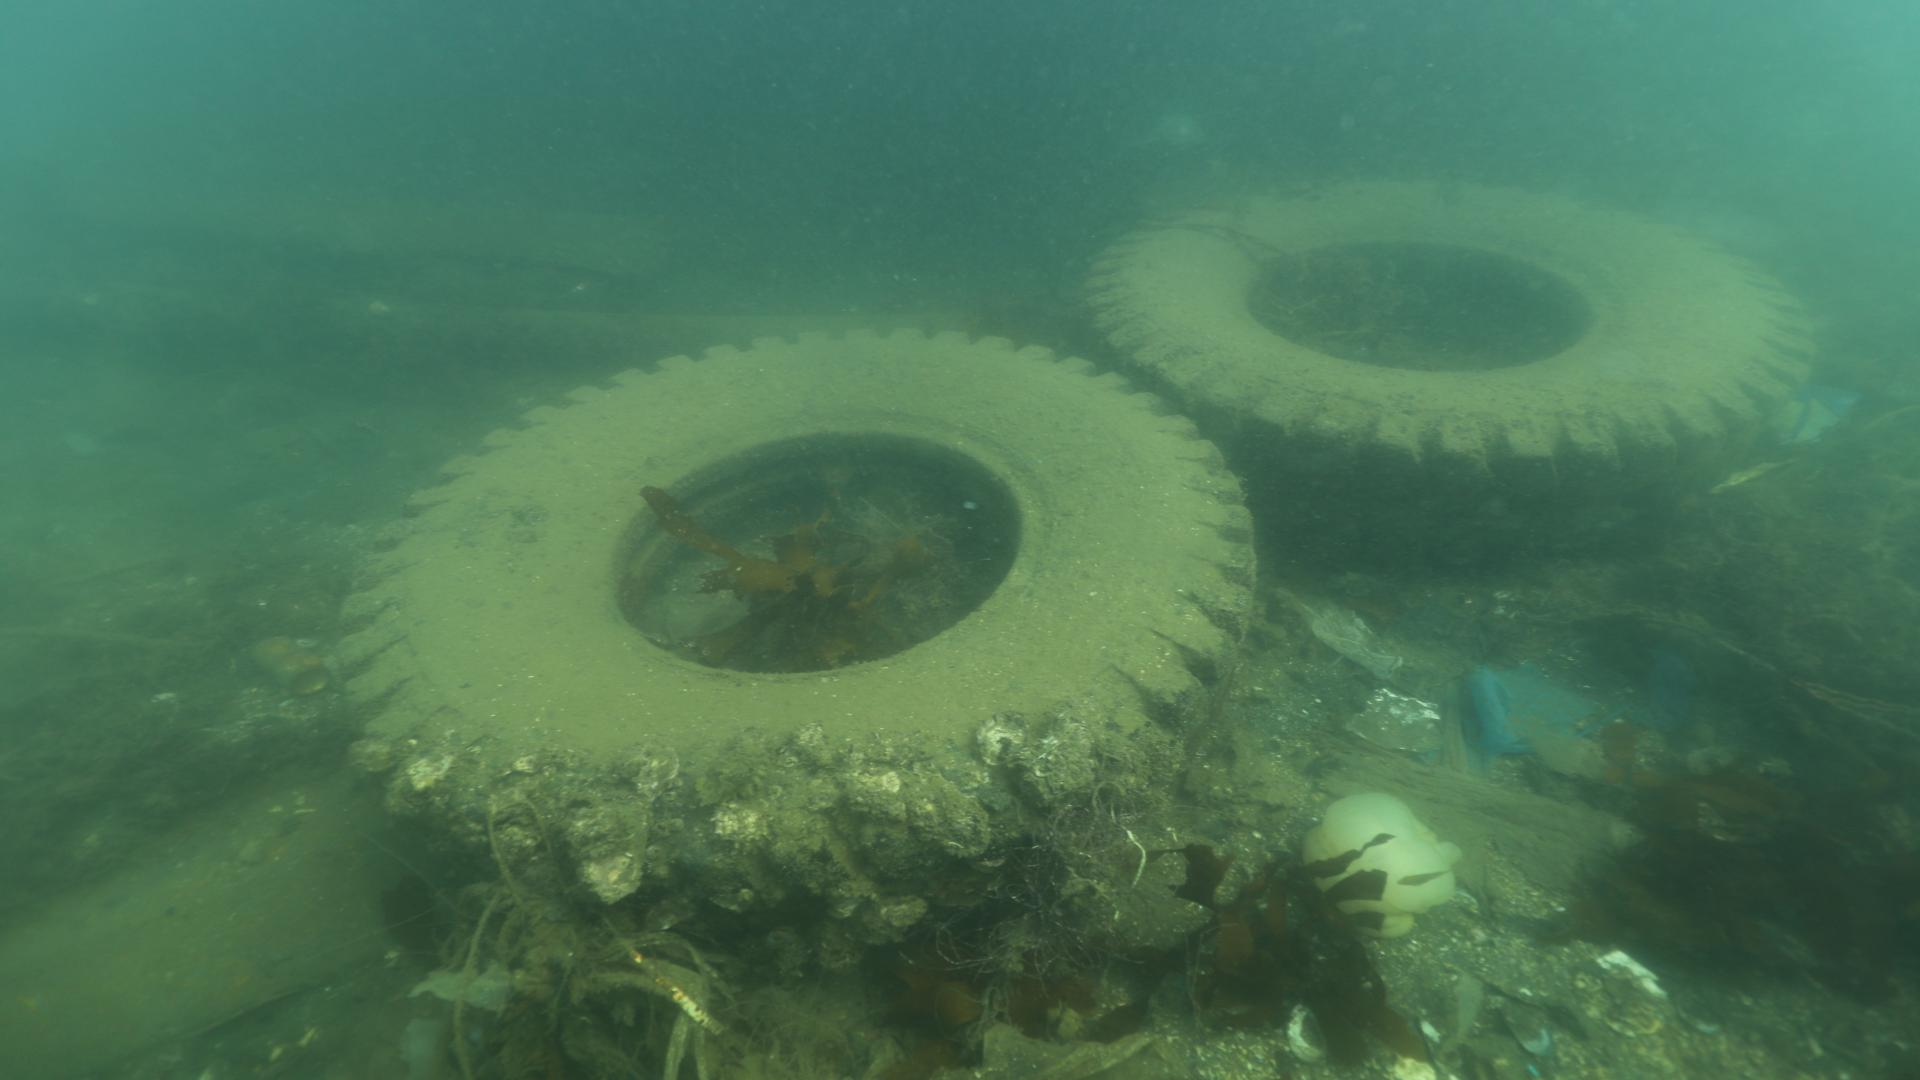tire: (336, 320, 1261, 764), (1071, 169, 1829, 564)
